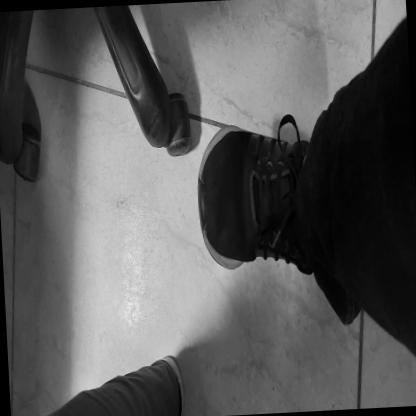ankle: (293, 215, 294, 221)
heel: (309, 266, 313, 272)
left_foot: (195, 123, 317, 280)
pinky: (212, 150, 217, 160)
toe: (218, 243, 224, 257)
